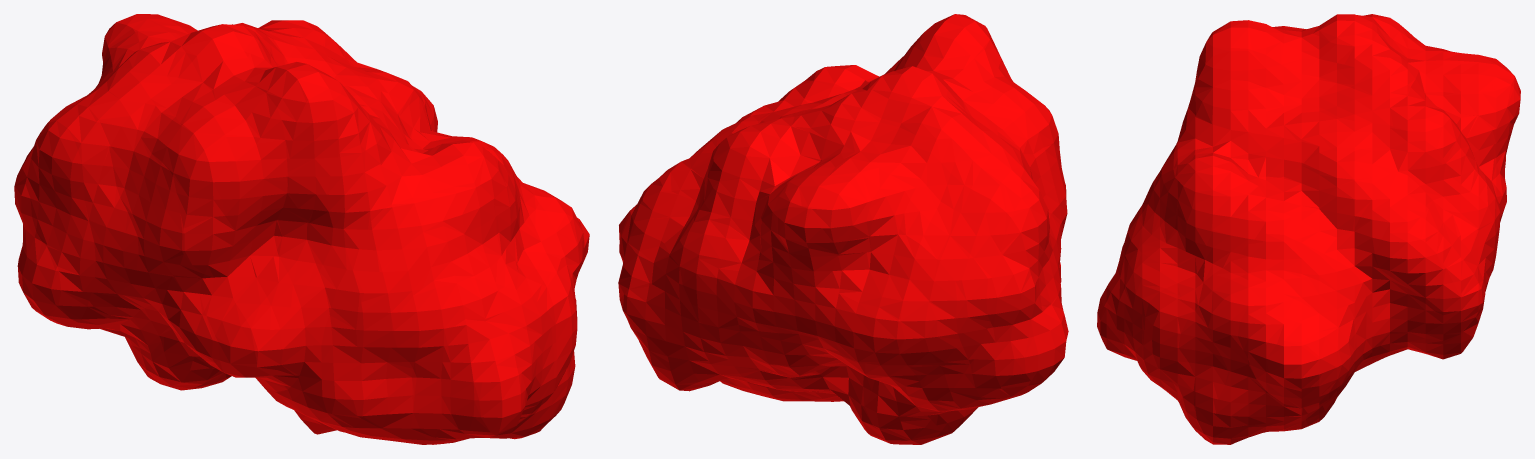
File: hcxA_coarse.dae
3 views of the same model, side by side, from view 1: azimuth 30°, elevation 25°; view 2: azimuth 150°, elevation 25°; view 3: azimuth 270°, elevation 25° (orthographic). The views are drawn at different scales.
Parts seen in each view (by area): view 1: hcxA; view 2: hcxA; view 3: hcxA.
Boxes of the visible parts, x1,y1,x2,y2 form: hcxA: (14,14,589,444); hcxA: (618,14,1068,444); hcxA: (1097,14,1520,444).
Bounding box in the file's own units: 66.13 × 50.74 × 58.3.
